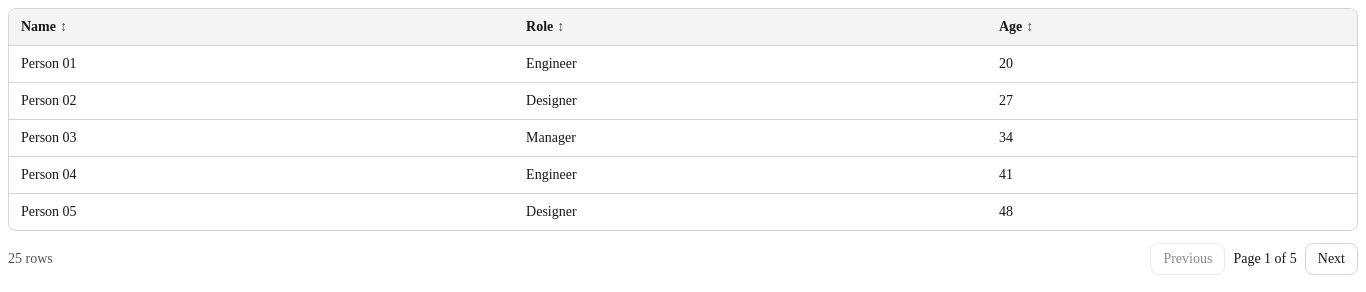
it: DataTable › captioned table with sortable headers exposed through aria-sort
Step 1. Click the button "Age ↕" → (1016, 27), box [999, 17, 1033, 37]
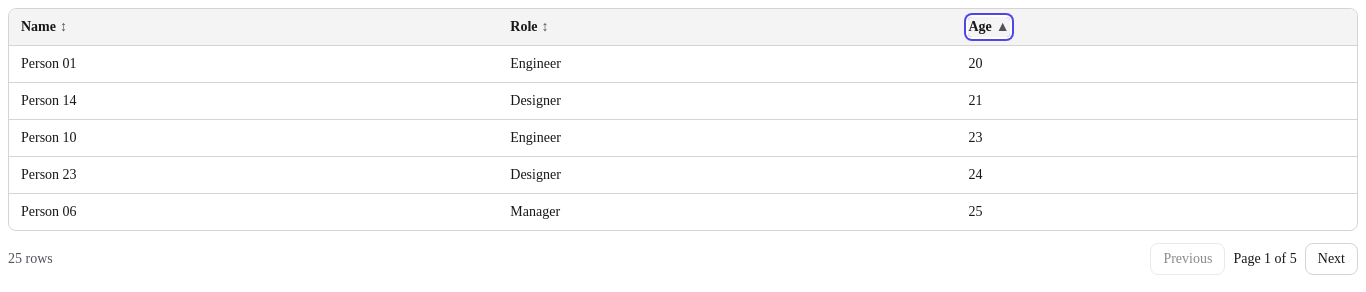
Expected: the cell "20" is shown, [956, 46, 1357, 82]
Now the column heading "Age ▲" has attribute aria-sort="ascending", box [956, 9, 1357, 45]
Step 2. Click the button "Age ▲" → (989, 27), box [968, 17, 1010, 37]
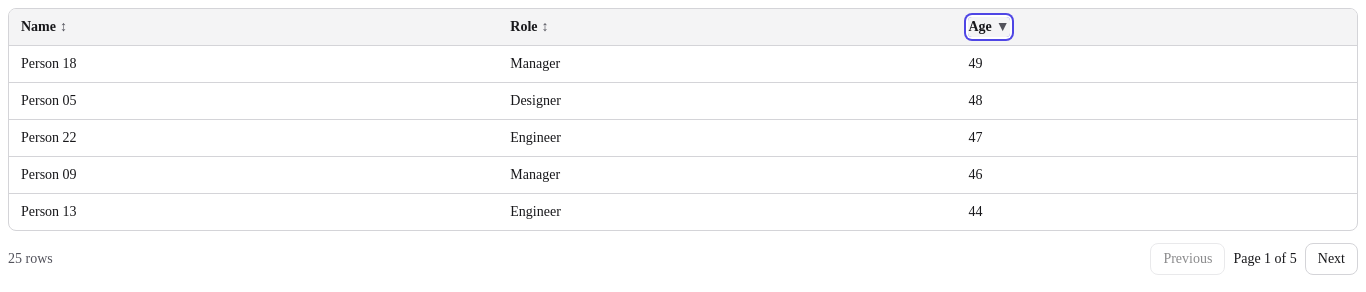
Now the cell "49" is shown, box [956, 46, 1357, 82]
